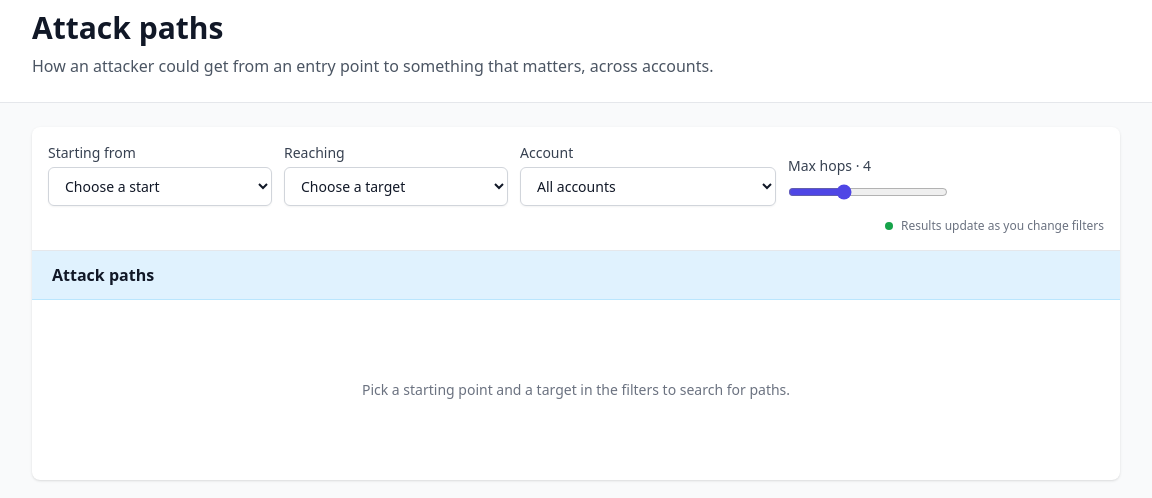
Test case: AttackPathsPage › does not search until a start and a target are chosen
Check: the text "Pick a starting point and a target in the filters" is shown, box top-left (362, 380), bottom-right (790, 399)
Check: the heading "Attack paths" below "Starting from" is shown, box top-left (52, 263), bottom-right (154, 287)
Select "Any entry point" in the dropdown labelled "Starting from": [160, 186] box top-left (48, 167), bottom-right (272, 206)
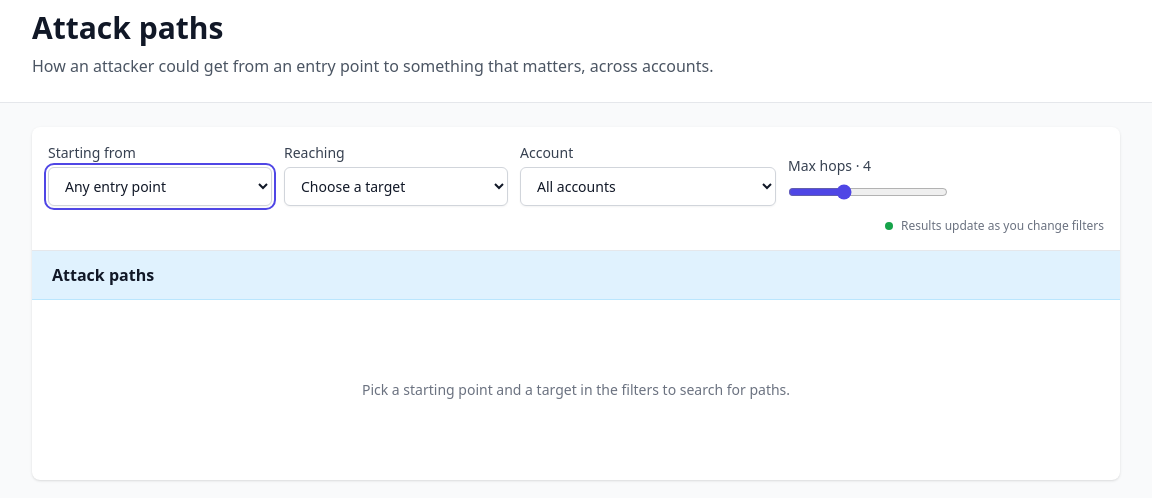
Select "Restricted data" in the dropdown labelled "Reaching": [396, 186] box top-left (284, 167), bottom-right (508, 206)
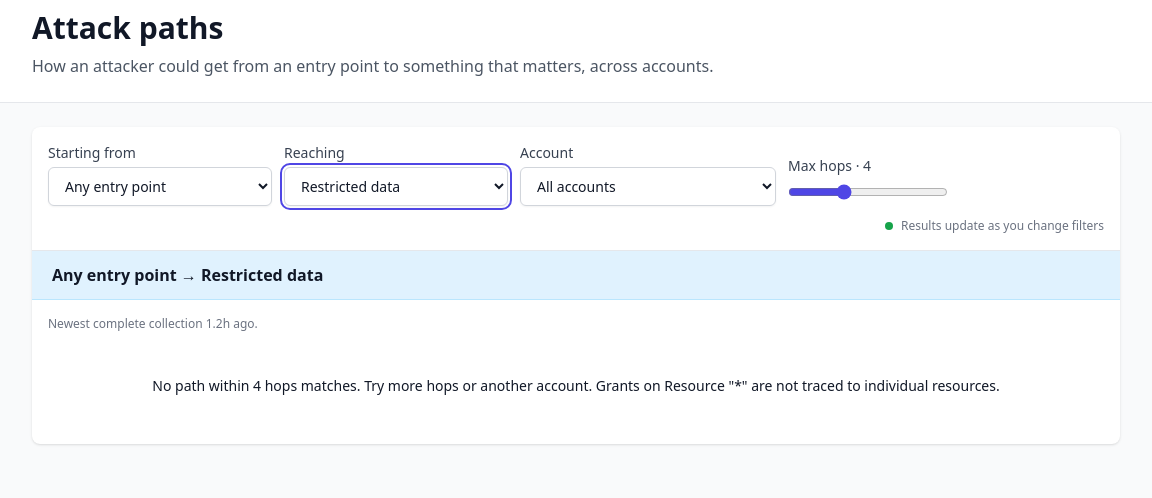
Check: the heading "Any entry point → Restricted data" is shown, box top-left (52, 263), bottom-right (323, 287)
Check: the text "No path within 4 hops matches" is shown, box top-left (152, 376), bottom-right (1000, 395)
